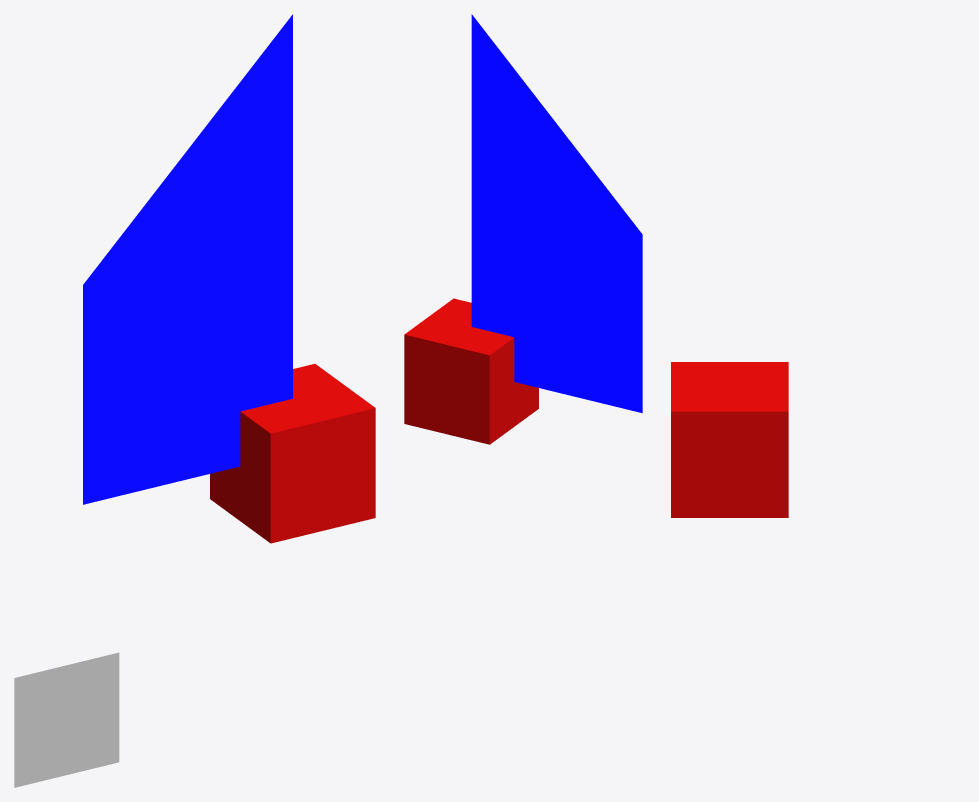
The model's file is Hierarchy.gltf.
3 views of the same model, side by side, from view 1: azimuth 30°, elevation 25°; view 2: azimuth 150°, elevation 25°; view 3: azimuth 270°, elevation 25° (orthographic). The views are drawn at different scales.
Parts seen in each view (by area): view 1: Parts, Plain; view 2: Parts; view 3: Parts.
Boxes of the visible parts, x1,y1,x2,y2 form: Parts: [83, 14, 375, 543]; Plain: [14, 652, 119, 787]; Parts: [404, 14, 642, 444]; Parts: [671, 362, 788, 517].
Size of the model in its own units: 2.5 by 7.5 by 2.5.
